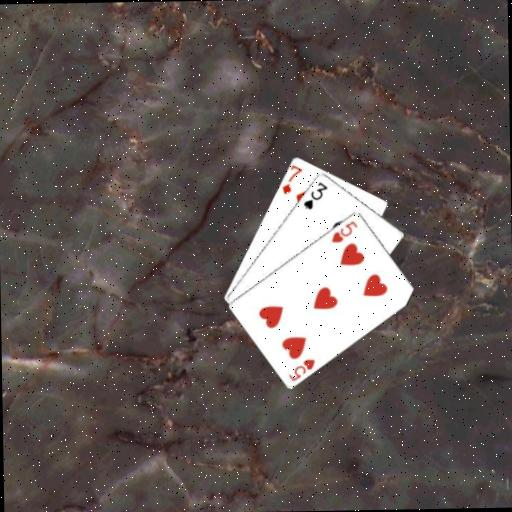3S: (300, 179, 329, 211)
5H: (286, 355, 317, 383), (328, 217, 360, 244)
7D: (278, 162, 304, 196)
